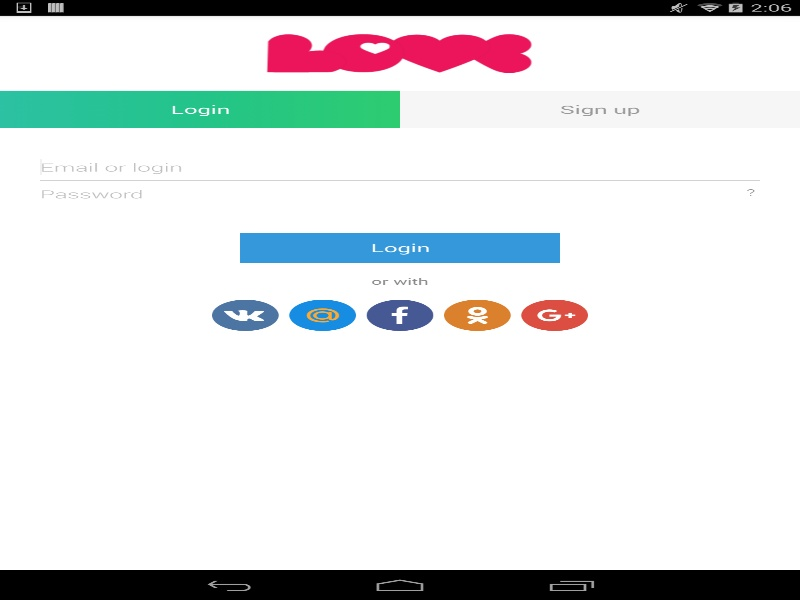Button: (240, 232, 560, 262), (289, 299, 356, 330), (366, 299, 433, 330), (521, 299, 588, 330), (212, 299, 278, 330), (444, 299, 510, 330)
Input: (40, 159, 760, 174), (40, 186, 760, 201)
